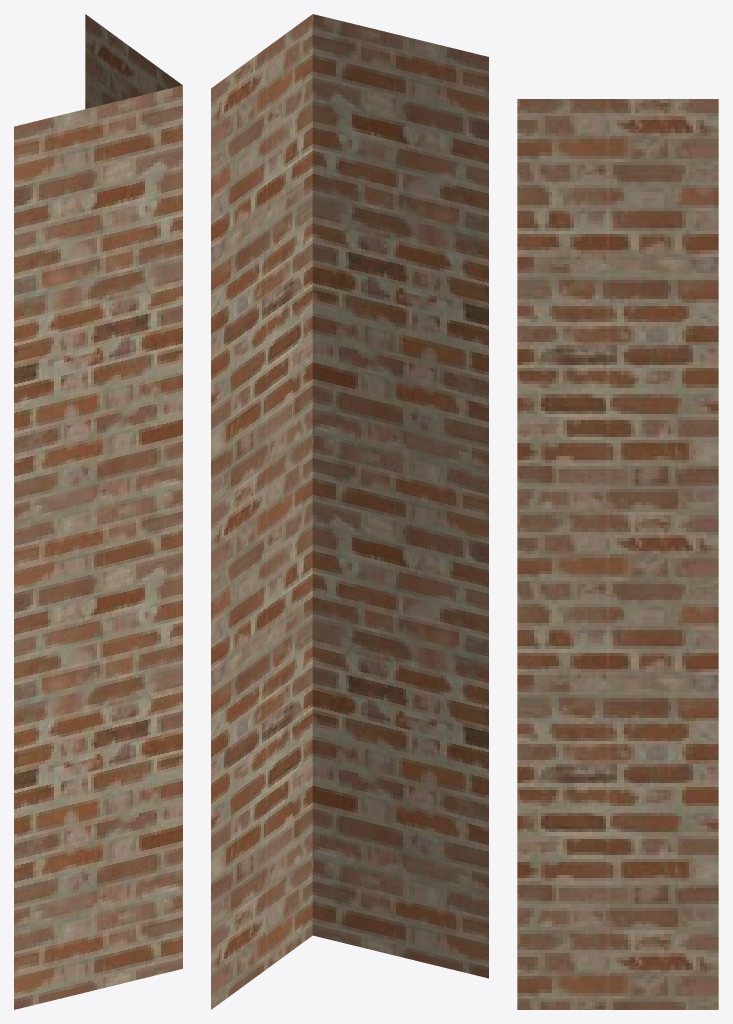
The model's file is Factory_Wall_Corner.glb.
3 renders of one model, left to right at view 1: azimuth 30°, elevation 25°; view 2: azimuth 150°, elevation 25°; view 3: azimuth 270°, elevation 25°, orthographic. The views are drawn at different scales.
Visible parts, largest first — view 1: Factory_Wall_Corner; view 2: Factory_Wall_Corner; view 3: Factory_Wall_Corner.
Boxes of the visible parts, x1=… form: Factory_Wall_Corner: x1=14, y1=14, x2=182, y2=1009; Factory_Wall_Corner: x1=211, y1=14, x2=488, y2=1009; Factory_Wall_Corner: x1=517, y1=99, x2=718, y2=1009.
Bounding box in the file's own units: 0.8 × 4 × 0.8.
1 material, 1 textured.
